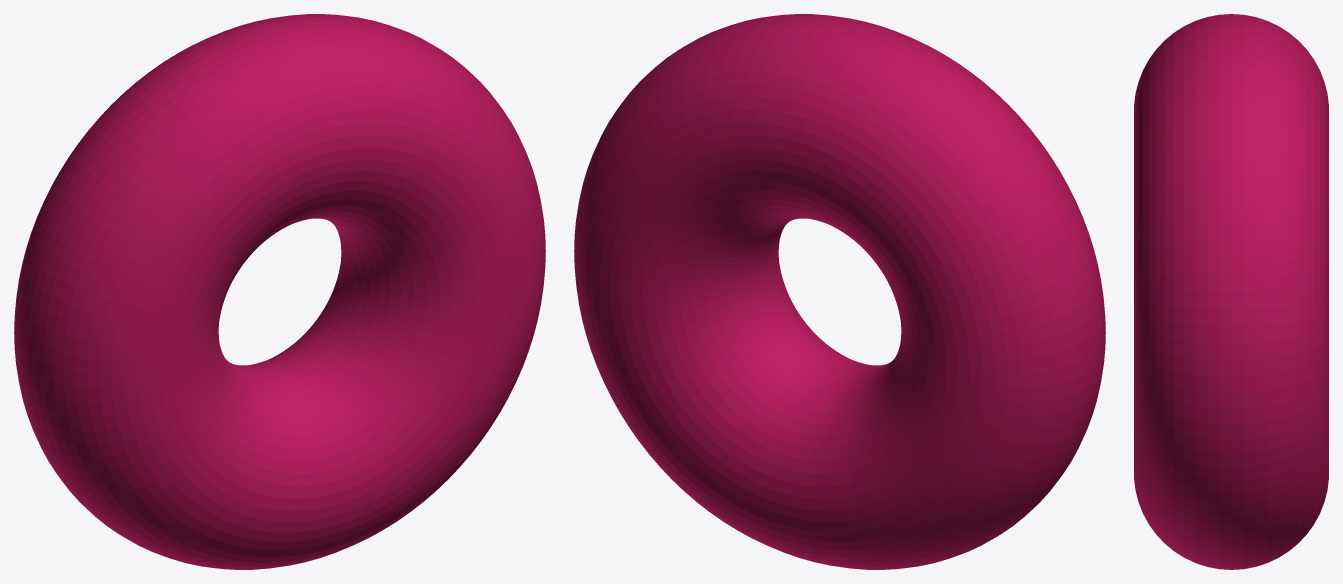
3 views of the same model, side by side, from view 1: azimuth 30°, elevation 25°; view 2: azimuth 150°, elevation 25°; view 3: azimuth 270°, elevation 25° (orthographic). The views are drawn at different scales.
Parts seen in each view (by area): view 1: world; view 2: world; view 3: world.
Part boxes in pixels (box(x1,y1,x2,y2)): world: box(14, 14, 545, 569); world: box(574, 14, 1105, 569); world: box(1134, 14, 1328, 569).
Size of the model in its own units: 24.67 by 24.67 by 8.65.
